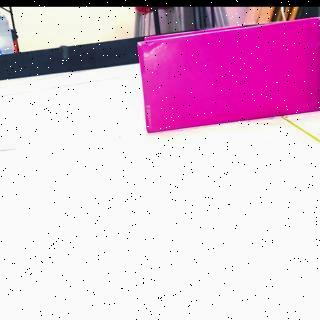xparking: (141, 38, 320, 112)
